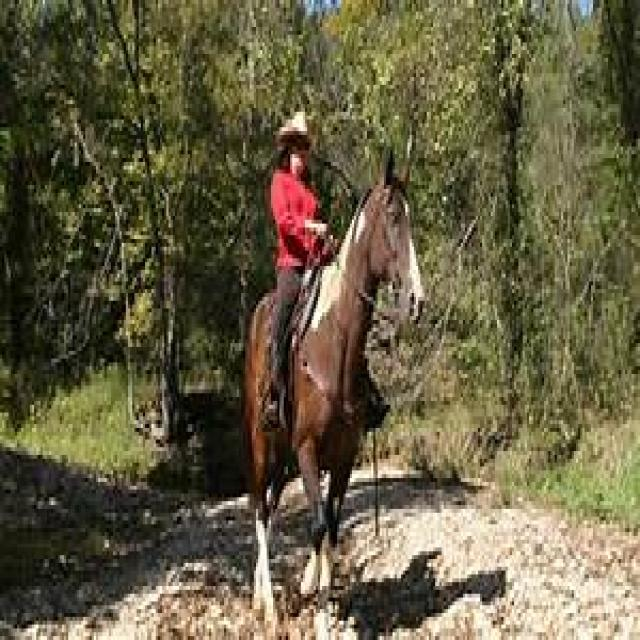horse: (239, 139, 424, 636)
